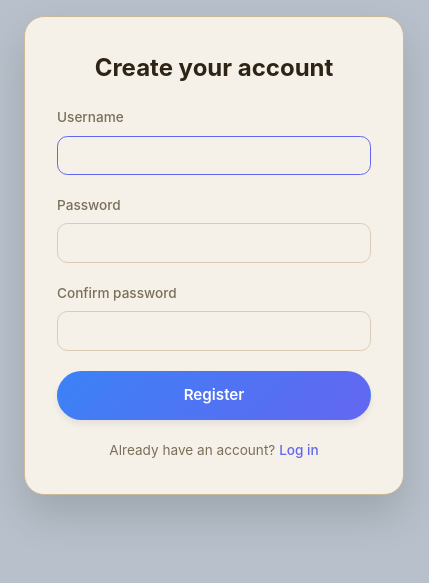
Test: AuthForm › register mode › validates short password
The width and height of the screenshot is (429, 583).
Type "myuser" into the field labelled "Username".
click(214, 155); type("myuser")  # box [57, 136, 371, 175]
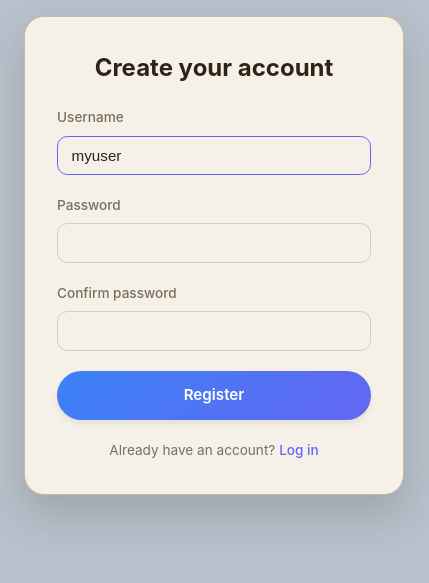
Type "ab123" into the password field labelled "Password".
click(214, 243); type("ab123")  # box [57, 224, 371, 263]
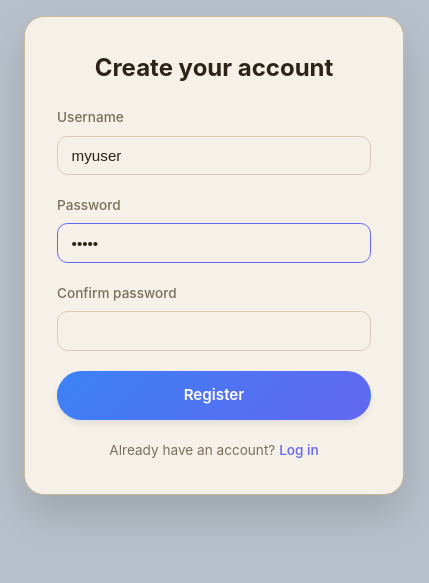
Type "ab123" into the password field labelled "Confirm password".
click(214, 331); type("ab123")  # box [57, 311, 371, 351]
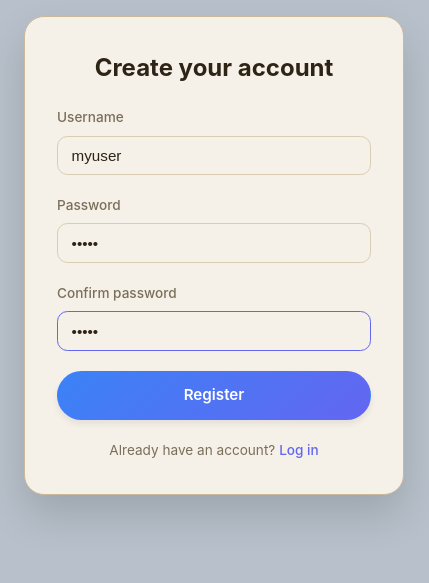
Click the button "Register".
click(214, 396)  # box [57, 371, 371, 420]
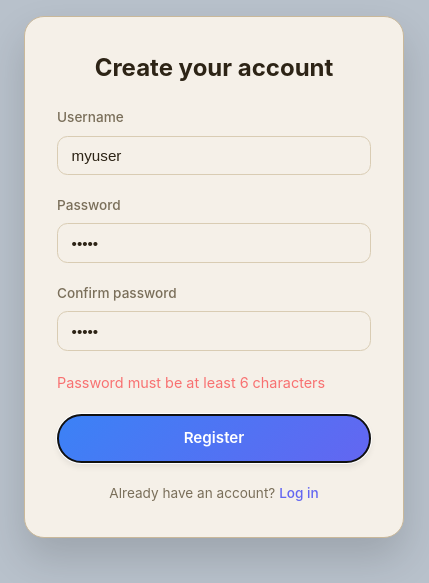
Check: the text "Password must be at least 6 characters" is shown, box [57, 371, 371, 394]
